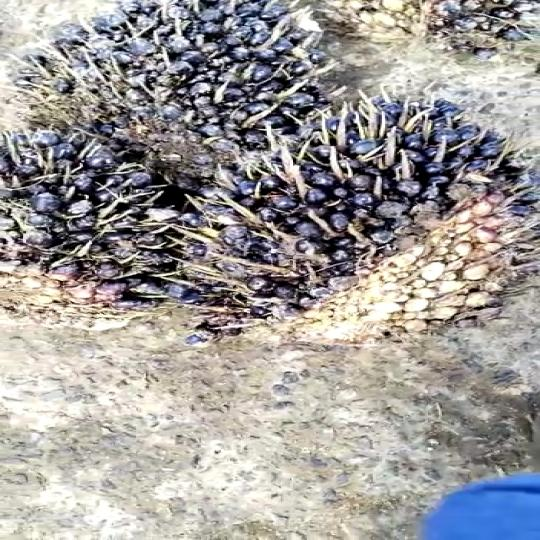mentah: (158, 89, 535, 348), (1, 1, 311, 161), (0, 136, 196, 347)
